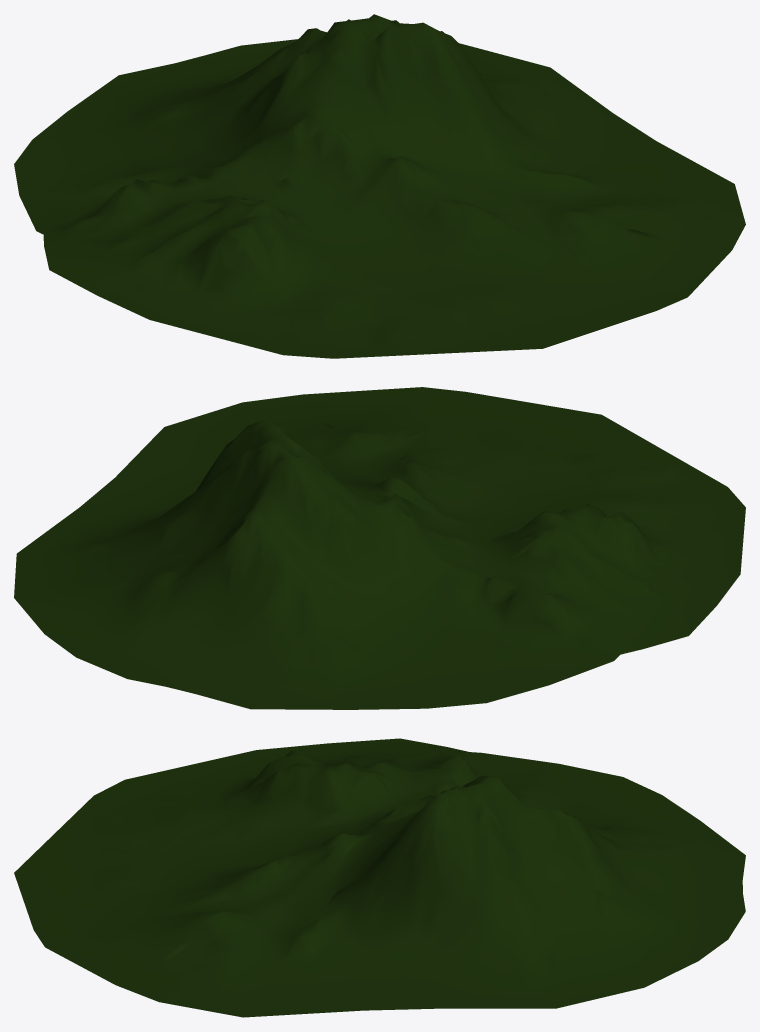
Rendered from Mountain V01.FBX.
3 renders of one model, top to bottom at view 1: azimuth 30°, elevation 25°; view 2: azimuth 150°, elevation 25°; view 3: azimuth 270°, elevation 25°, orthographic. The views are drawn at different scales.
Parts seen in each view (by area): view 1: Mountain V01; view 2: Mountain V01; view 3: Mountain V01.
Part boxes in pixels (x1,y1,x2,y2): Mountain V01: (14, 14, 745, 358); Mountain V01: (14, 387, 745, 709); Mountain V01: (14, 738, 745, 1017).
Size of the model in its own units: 14.61 by 3.13 by 16.22.
